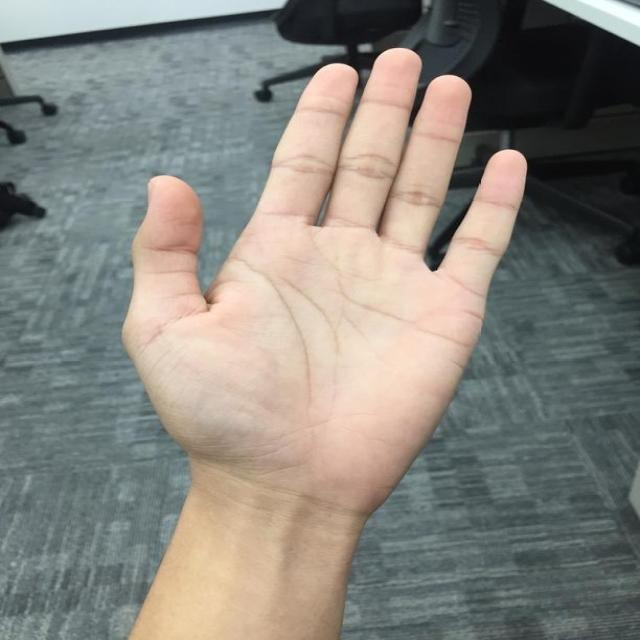hand: (124, 47, 532, 511)
